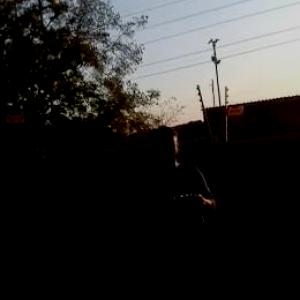follow: (133, 121, 230, 299)
